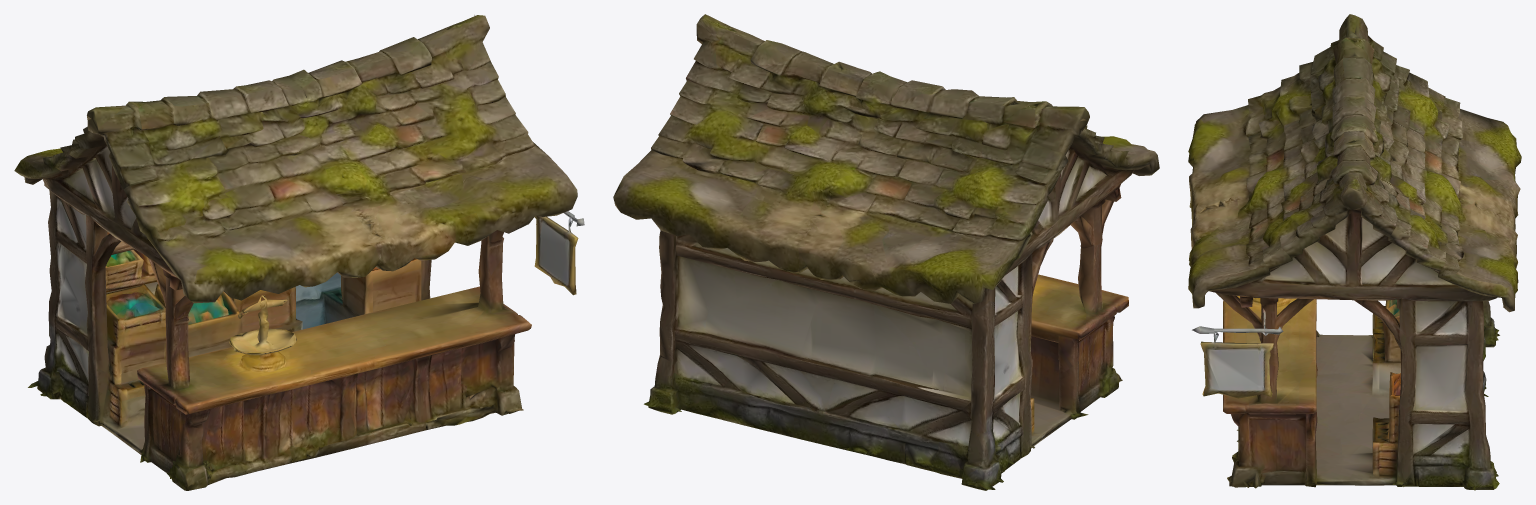
Rendered from town_civic_trading_post.glb.
3 renders of one model, left to right at view 1: azimuth 30°, elevation 25°; view 2: azimuth 150°, elevation 25°; view 3: azimuth 270°, elevation 25°, orthographic. The views are drawn at different scales.
Visible parts, largest first — view 1: tripo_node_86db8da3-463a-447c-813d-4b697871d5d9; view 2: tripo_node_86db8da3-463a-447c-813d-4b697871d5d9; view 3: tripo_node_86db8da3-463a-447c-813d-4b697871d5d9.
Part boxes in pixels (box(x1,y1,x2,y2)): tripo_node_86db8da3-463a-447c-813d-4b697871d5d9: box(14, 15, 584, 490); tripo_node_86db8da3-463a-447c-813d-4b697871d5d9: box(613, 14, 1159, 490); tripo_node_86db8da3-463a-447c-813d-4b697871d5d9: box(1188, 14, 1521, 490).
Bounding box in the file's own units: 8.77 × 7 × 6.75.
Materials: 1 (1 with a texture image).
